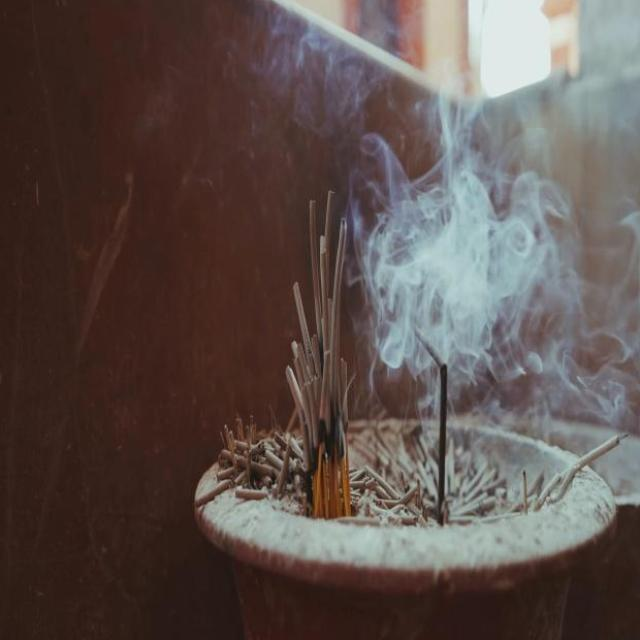fire: (237, 0, 639, 425)
